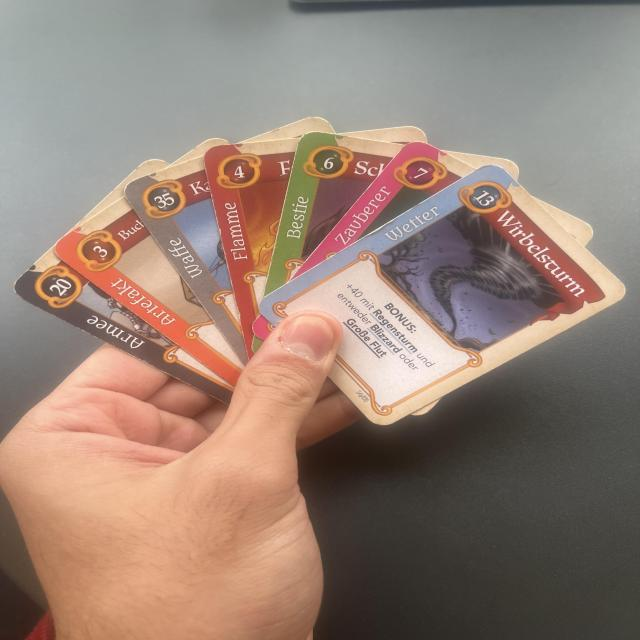Book Of Changes: (49, 198, 246, 387)
Fire Elemental: (202, 138, 300, 315)
Knights: (9, 249, 234, 406)
War Dirigable: (118, 157, 244, 365)
War Horse: (264, 129, 404, 296)
Whirlwind: (255, 163, 634, 429), (293, 139, 478, 280)
